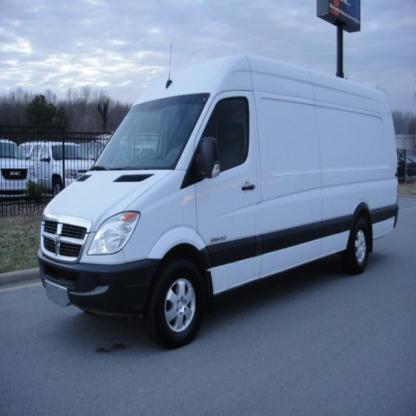Vehicle: (36, 42, 401, 350)
